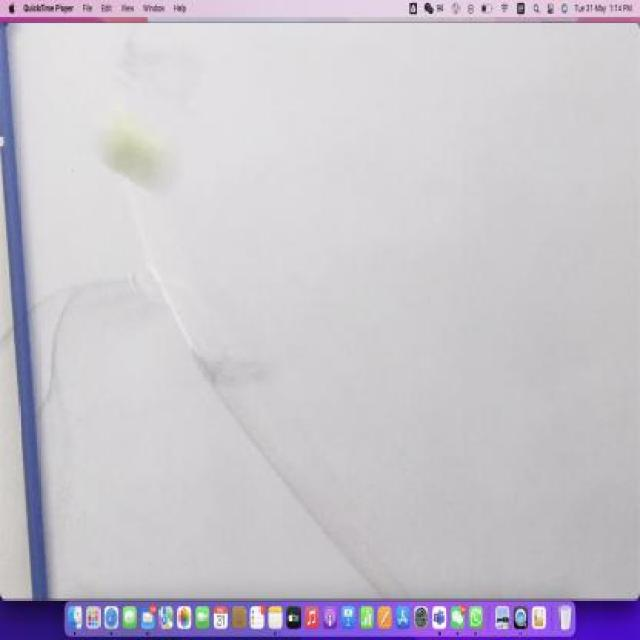baseball: (102, 116, 166, 196)
